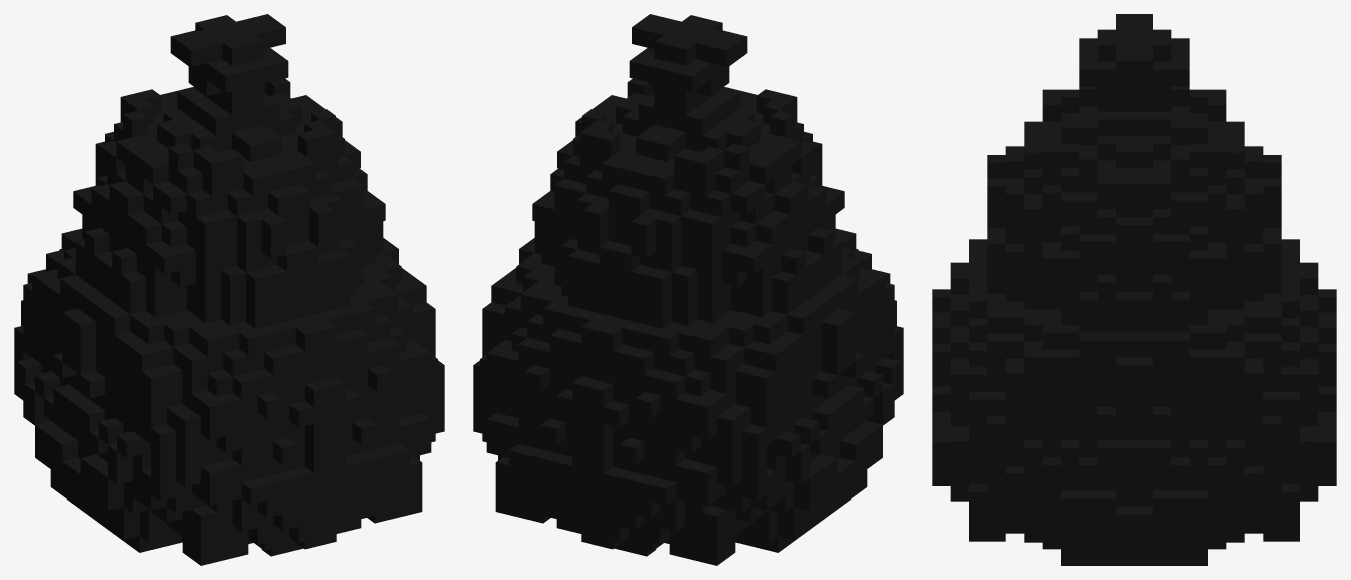
The model's file is Worek.dae.
3 renders of one model, left to right at view 1: azimuth 30°, elevation 25°; view 2: azimuth 150°, elevation 25°; view 3: azimuth 270°, elevation 25°, orthographic.
Parts seen in each view (by area): view 1: Worek; view 2: Worek; view 3: Worek.
Boxes of the visible parts, <box> form: Worek: <box>14,14,444,565</box>; Worek: <box>473,14,903,565</box>; Worek: <box>932,14,1336,565</box>.
Size of the model in its own units: 20 by 28 by 22.
Materials: 1 (1 with a texture image).
